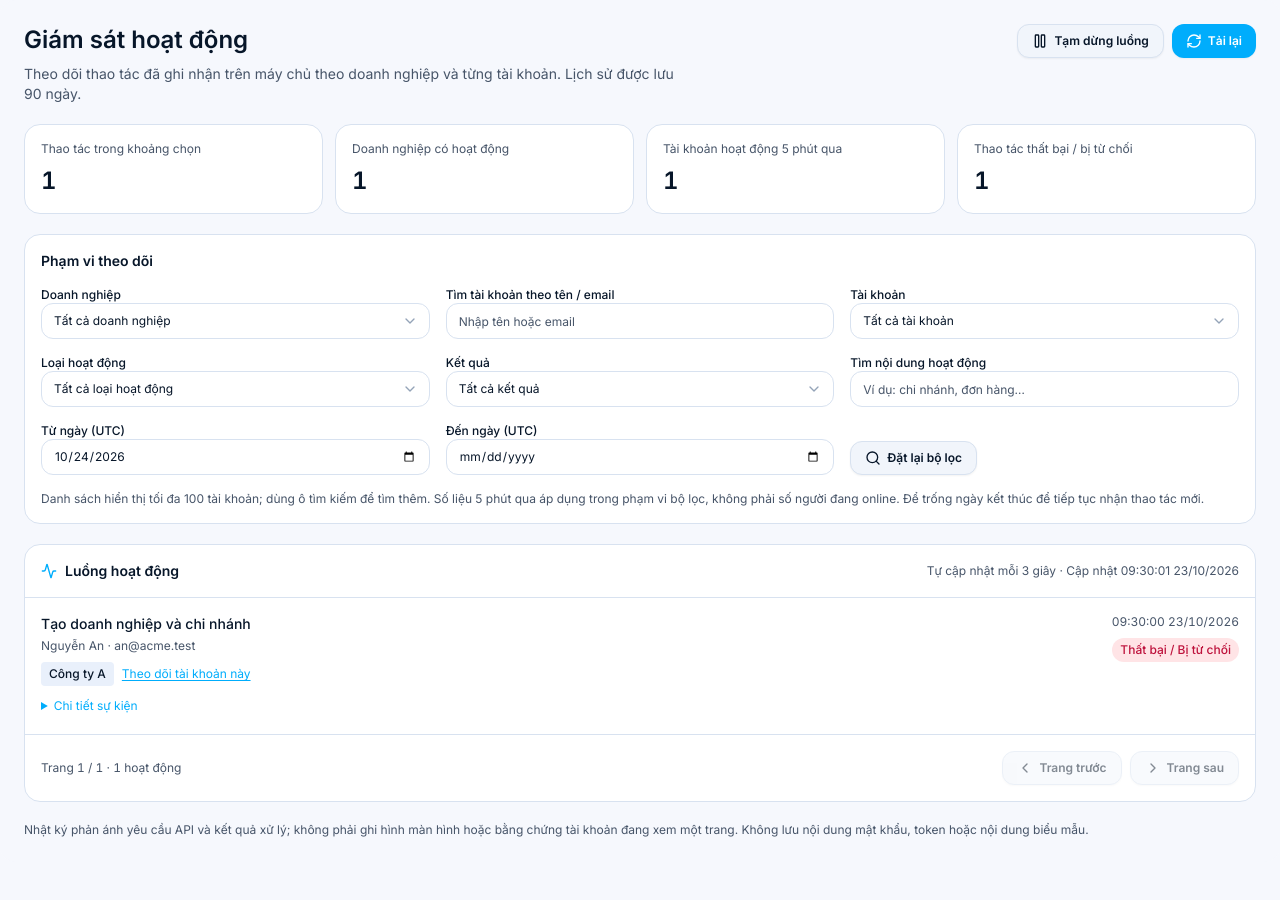
Test: ActivityMonitorPage › drills into an actor and clears the actor when changing company
Step 1. Click the button with aria-label "Theo dõi tài khoản an@acme.test" → (186, 674), box [122, 662, 250, 686]
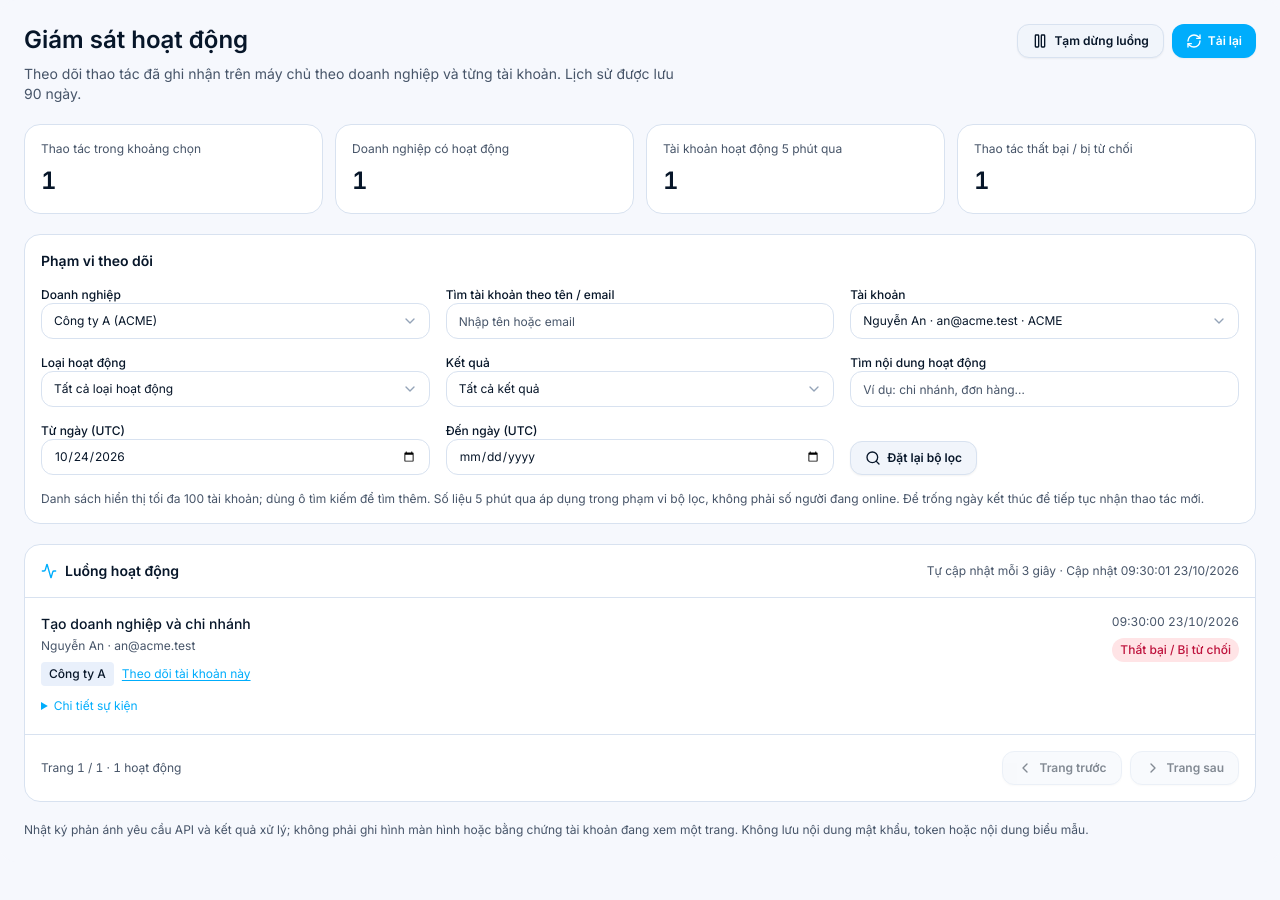
Step 2. Select "Công ty B (OTHER)" in the dropdown labelled "Doanh nghiệp" → (235, 321), box [41, 303, 430, 339]
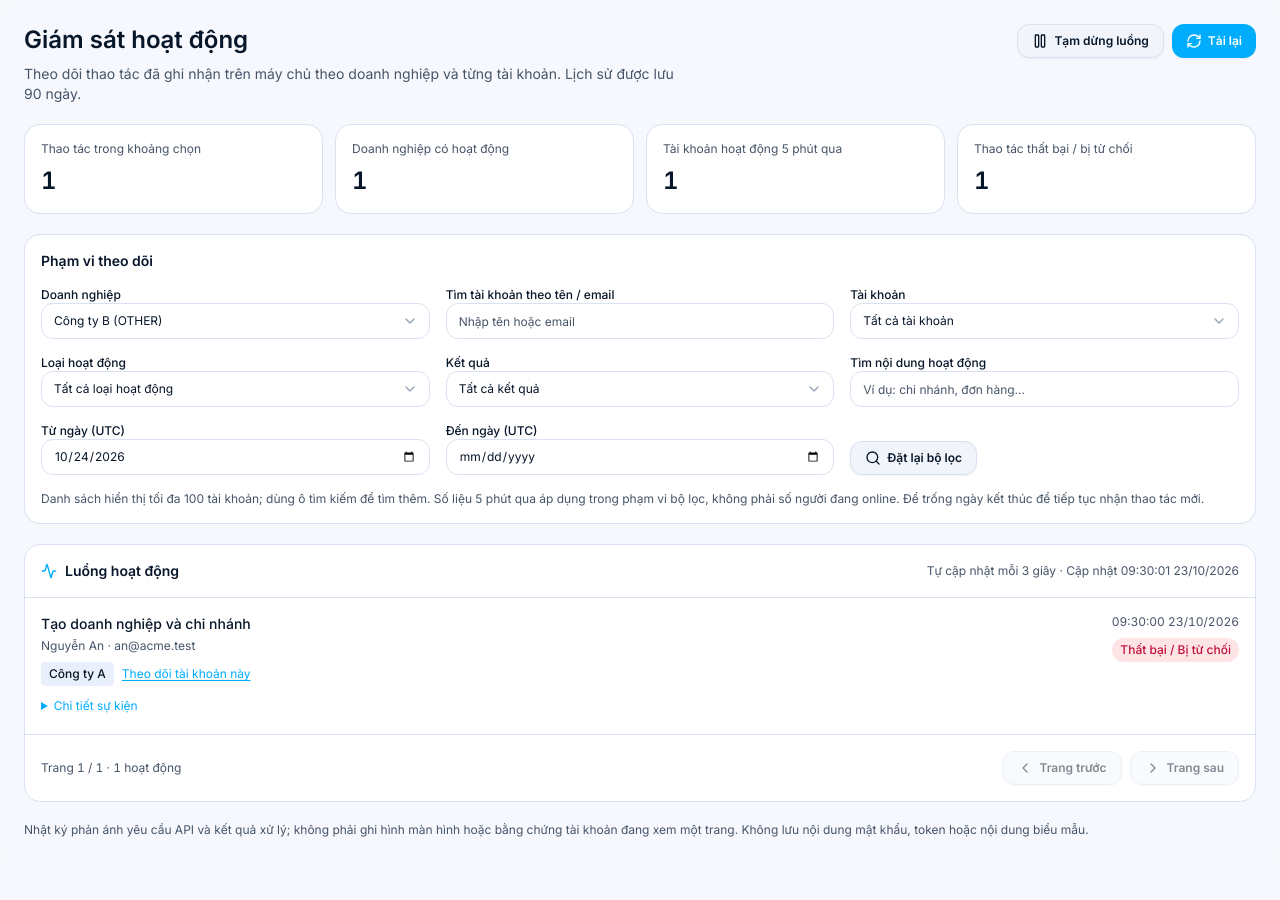
Now the dropdown labelled "Tài khoản" shows "Tất cả tài khoản", box [850, 303, 1239, 339]
